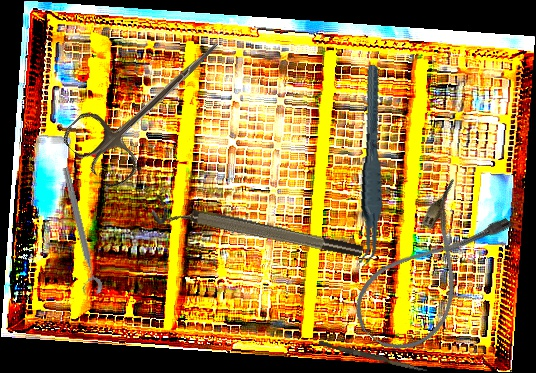Cannula: (341, 175, 519, 367)
Fixation Ring: (149, 194, 365, 270), (52, 165, 104, 298)
Iris Scissors: (58, 12, 243, 194)
Pusher: (317, 340, 429, 373)
Tissue Forceps: (339, 64, 403, 270)
